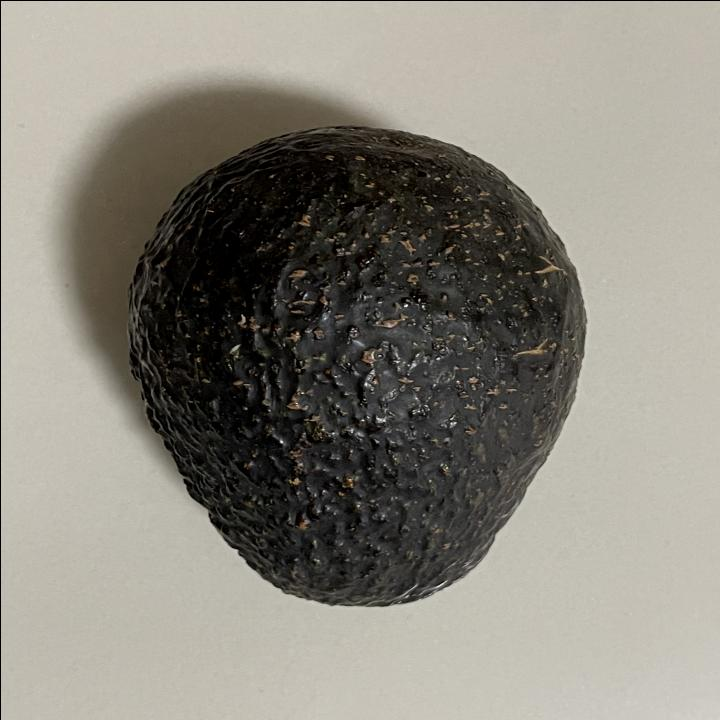Level3: (114, 115, 594, 614)
